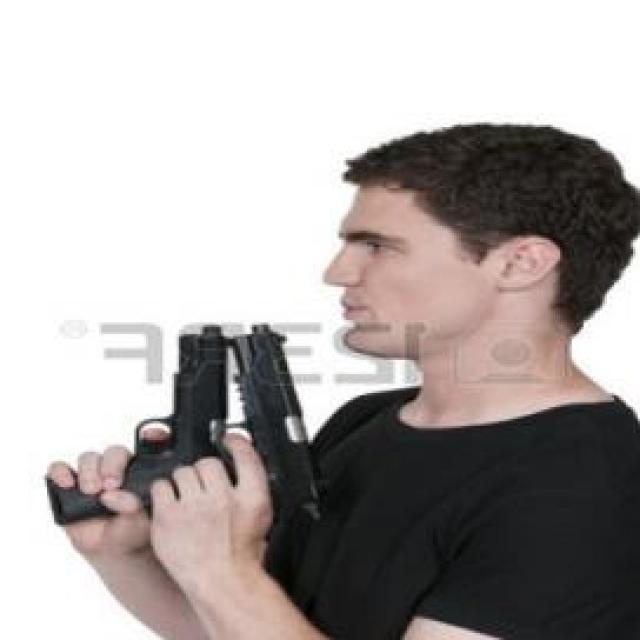pistol: (41, 324, 228, 536), (202, 320, 334, 532)
